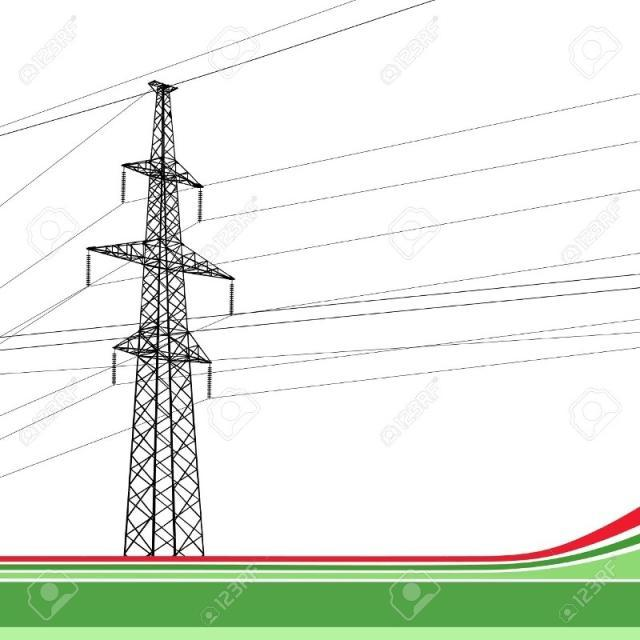non-critical vegetation: (95, 70, 224, 557)
